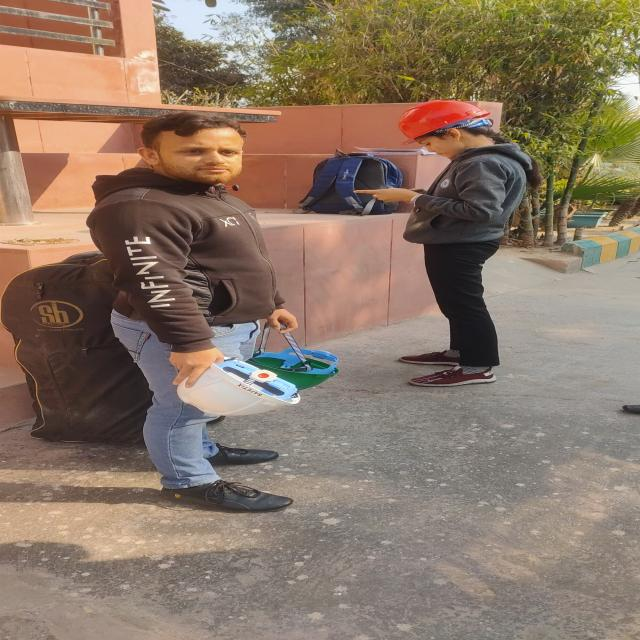no jacket: (356, 98, 532, 389)
unsafe: (81, 115, 339, 513)
